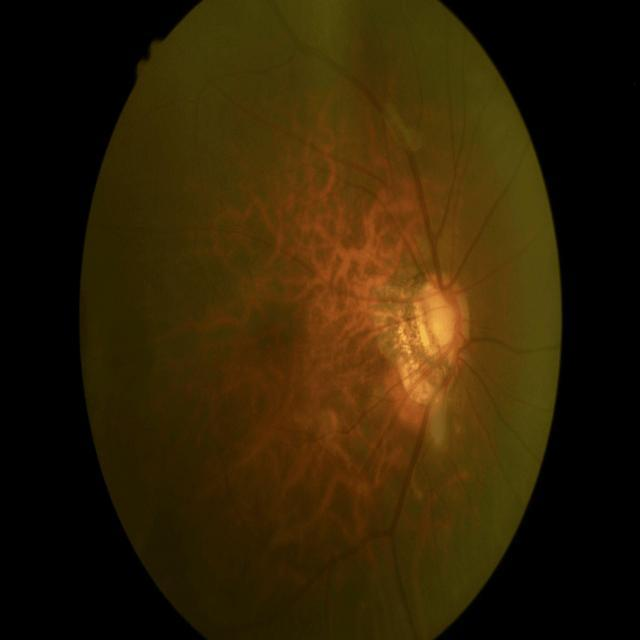cup: (431, 289, 461, 348)
disk: (422, 273, 469, 362)
